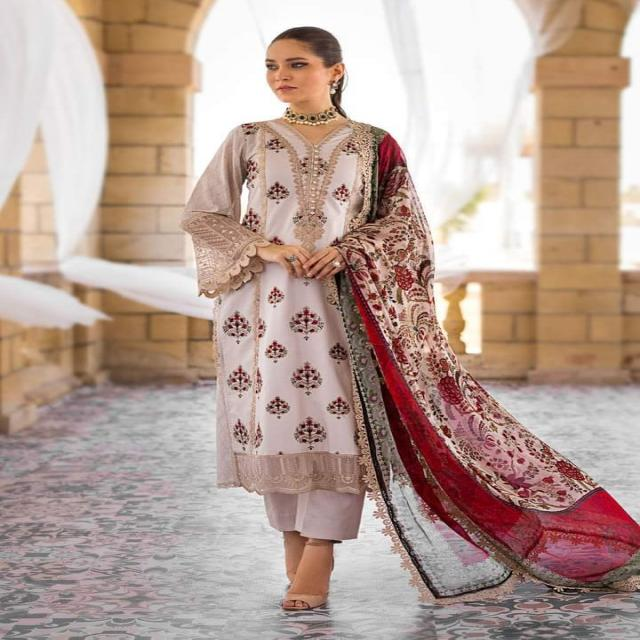female-dress: (187, 100, 580, 578)
